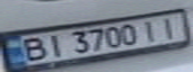0: (118, 21, 142, 45), (103, 24, 124, 48)
3: (66, 28, 90, 54)
7: (87, 26, 109, 52)
B: (15, 35, 51, 63)
I: (39, 32, 69, 57), (136, 17, 163, 42), (154, 16, 184, 38)
